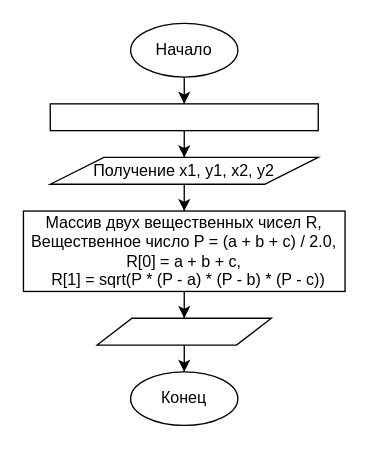
Some shapes in this 369 by 449 pixel diagram are drawn without their labels. Each missing label, with the box of its shape:
Вещественное число x1, y1, x2, y2: (49, 103, 318, 131)
Возвращение R: (96, 317, 271, 345)
